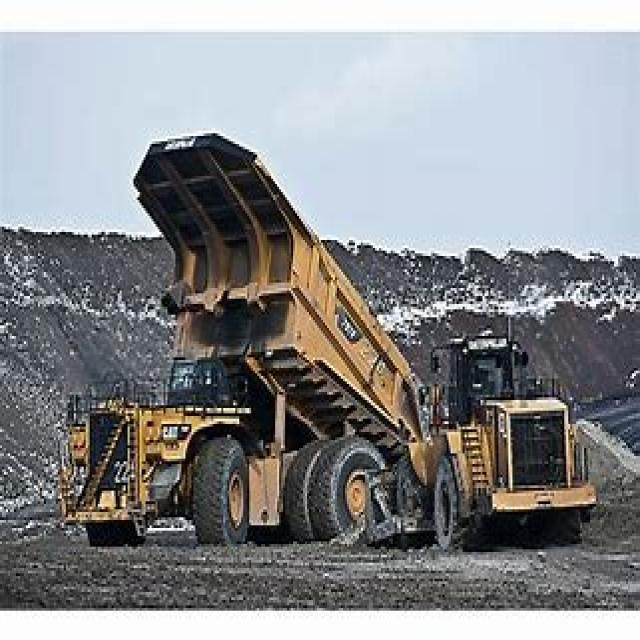dump_truck: (51, 118, 428, 558)
